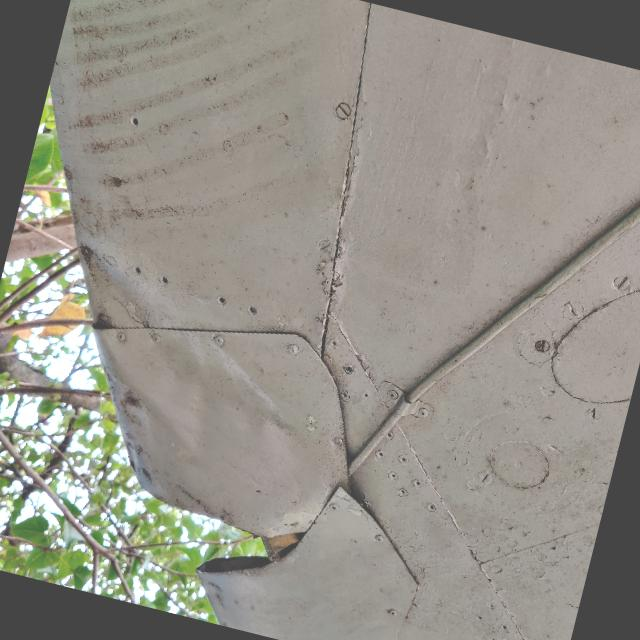dent: (12, 220, 364, 528)
